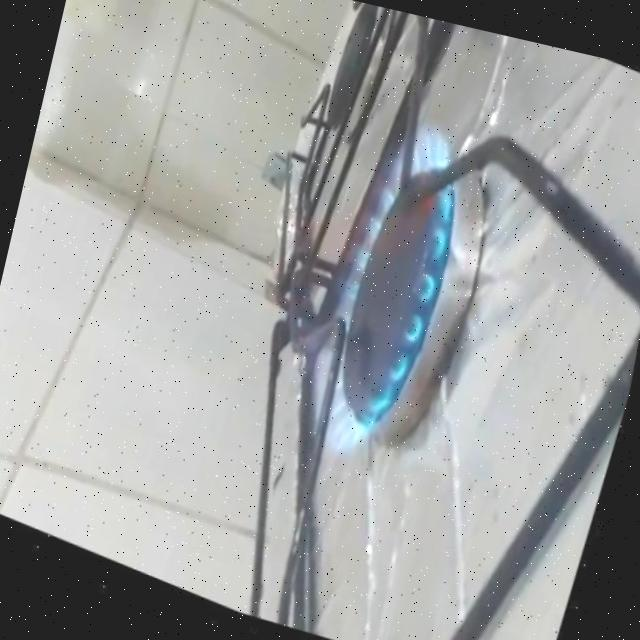fire: (256, 92, 500, 496)
